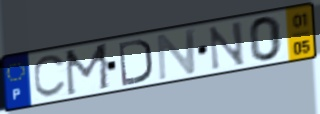0: (247, 15, 286, 64)
C: (31, 52, 68, 99)
D: (117, 37, 155, 88)
M: (63, 41, 113, 99)
N: (155, 27, 199, 83), (207, 19, 247, 73)
